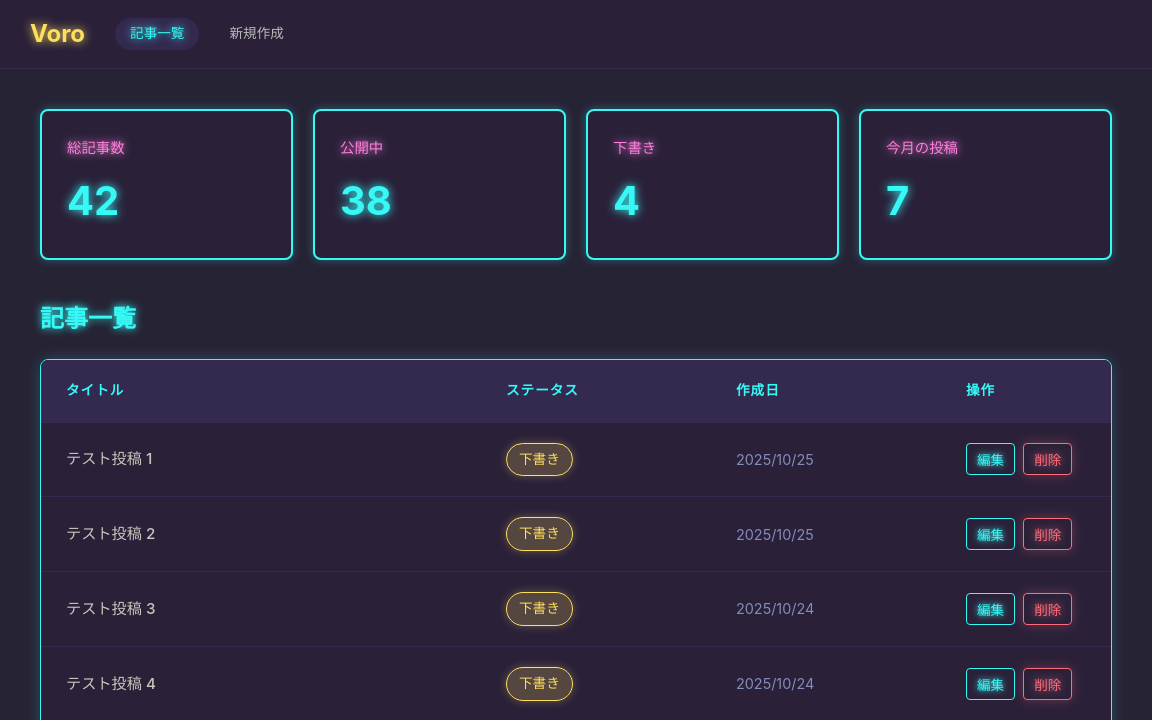
Test: PostListPage - Delete Post › deletes post when confirm is clicked
The width and height of the screenshot is (1152, 720).
Expected: the text "テスト投稿 1" is shown, [66,447,152,472]
削除ボタンをクリック
Click the button with aria-label "「テスト投稿 1」を削除" at (1048, 460), box [1023,444,1072,476]
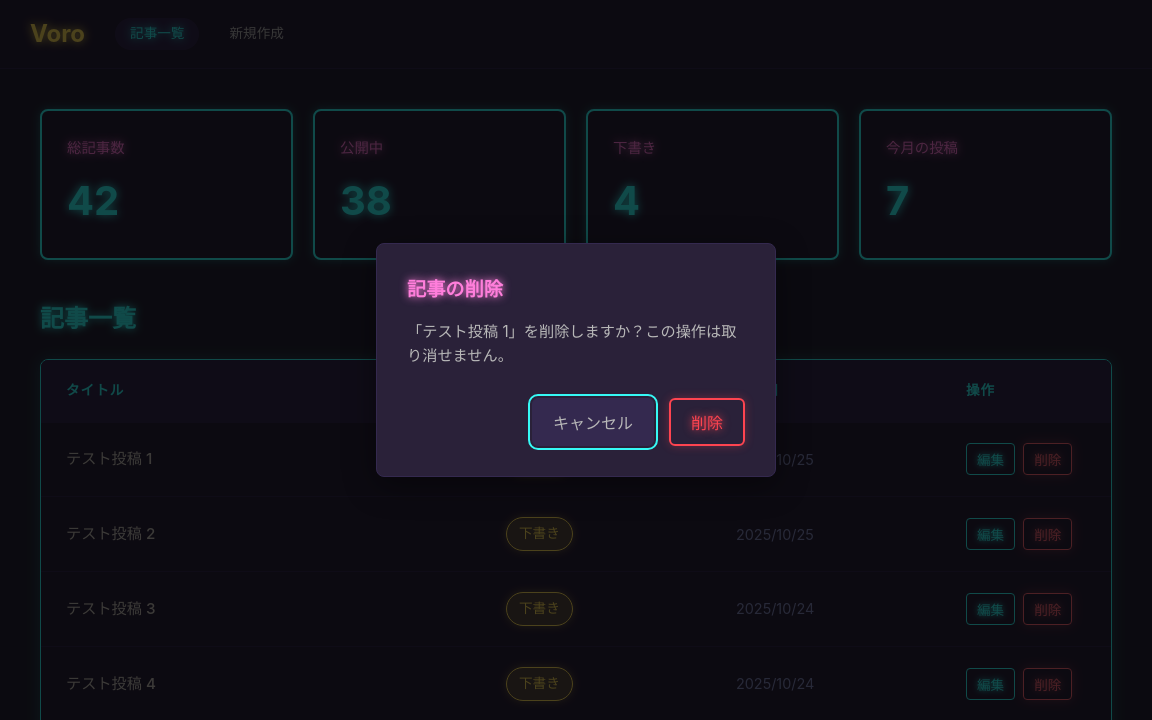
Expected: the dialog is shown, [376,243,776,477]
削除ボタンをクリック
Click the button "削除" at (707, 422), box [669,398,745,446]
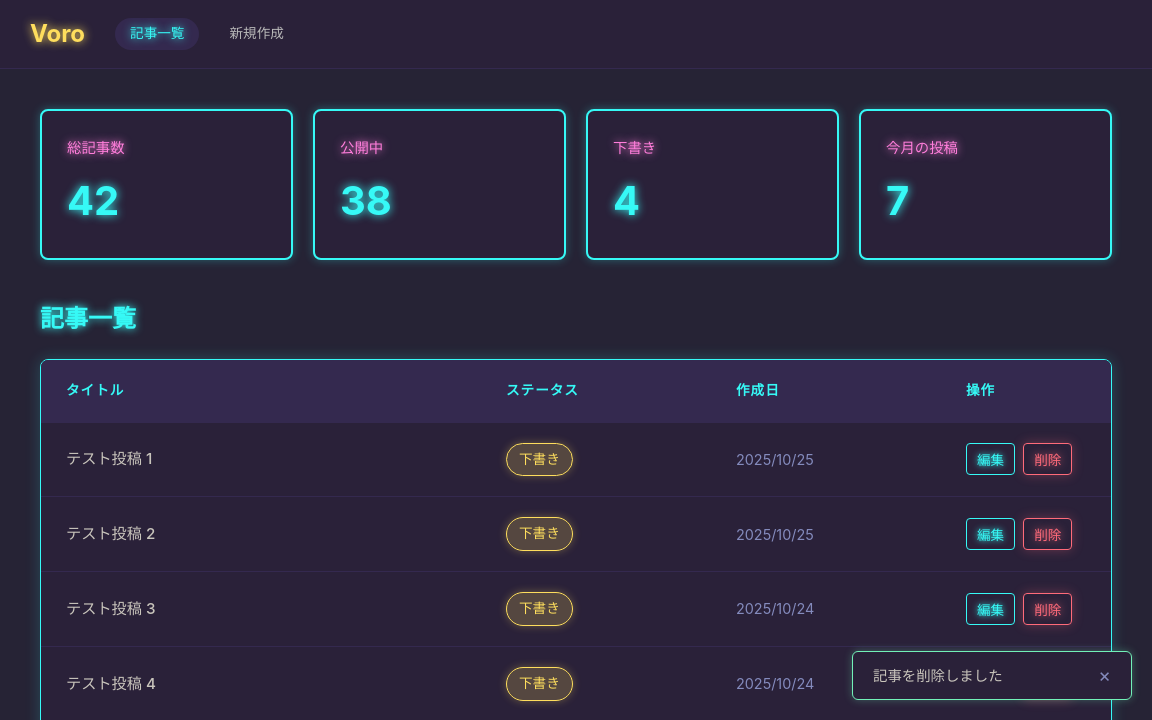
Expected: the dialog is gone
Expected: the text "記事を削除しました" is shown, [873,667,1002,684]
